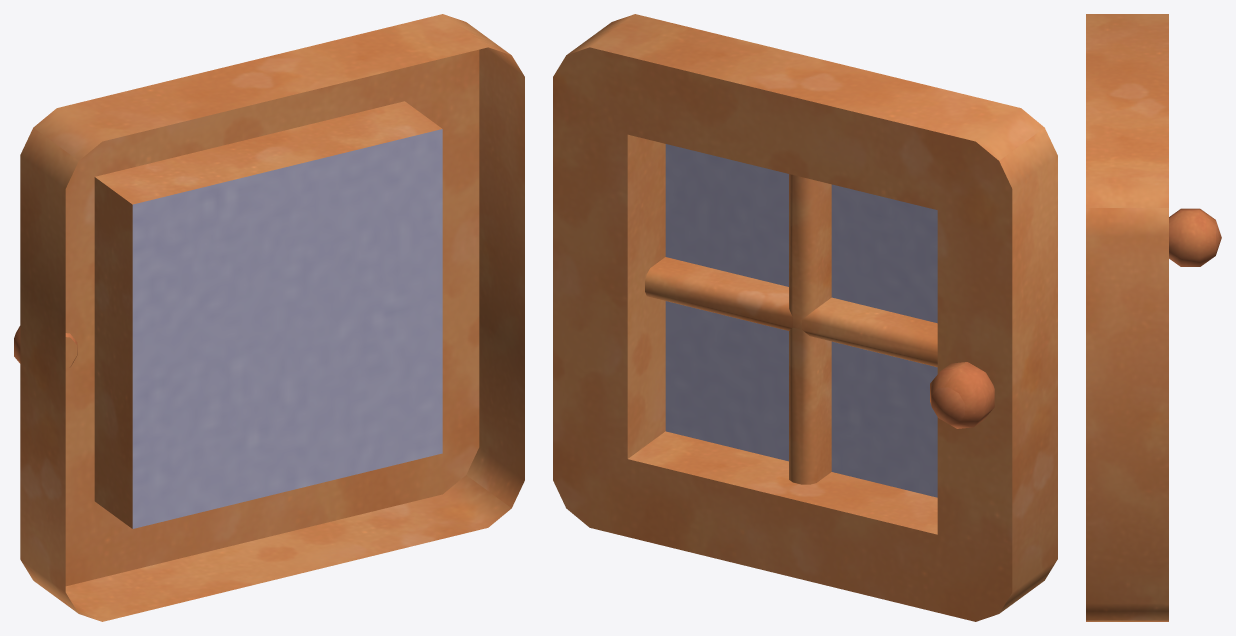
Rendered from SM_Little_Window.fbx.
3 views of the same model, side by side, from view 1: azimuth 30°, elevation 25°; view 2: azimuth 150°, elevation 25°; view 3: azimuth 270°, elevation 25° (orthographic). The views are drawn at different scales.
Visible parts, largest first — view 1: SM_Little_Window; view 2: SM_Little_Window; view 3: SM_Little_Window.
Part boxes in pixels (box(x1,y1,x2,y2)): SM_Little_Window: box(14, 14, 524, 621); SM_Little_Window: box(553, 14, 1057, 621); SM_Little_Window: box(1086, 14, 1221, 621).
Size of the model in its own units: 100 by 100 by 28.16.
